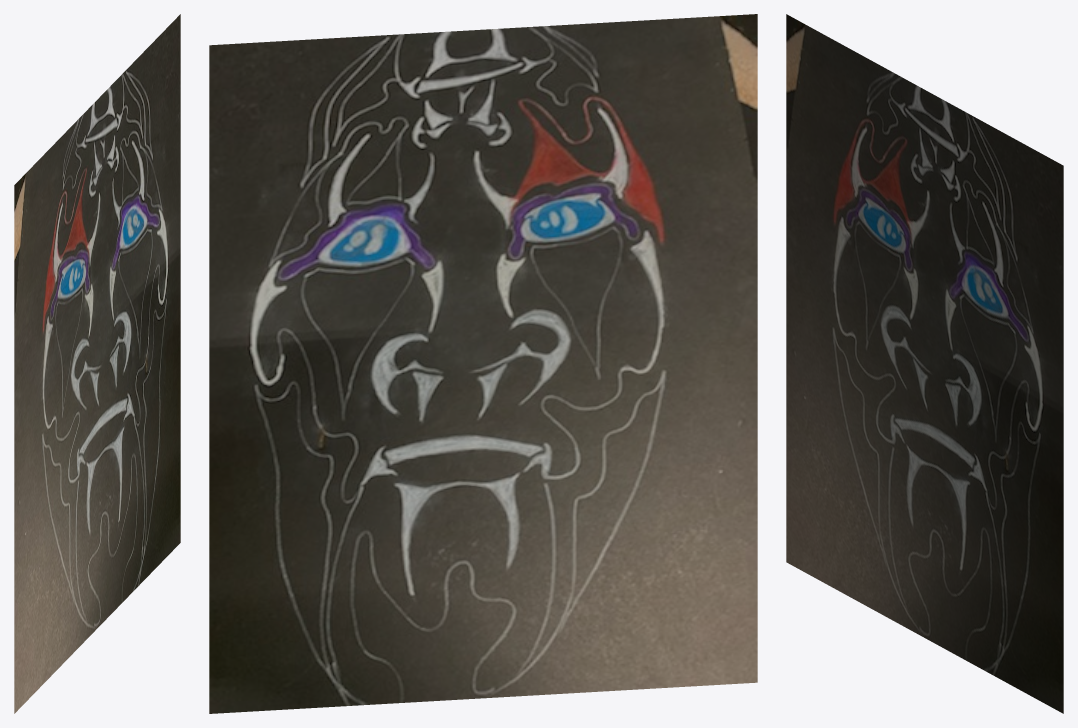
The model's file is jeffblueeyes1.glb.
The picture shows the model from 3 angles, left to right: view 1: azimuth 30°, elevation 25°; view 2: azimuth 150°, elevation 25°; view 3: azimuth 270°, elevation 25°; orthographic projection. The views are drawn at different scales.
Visible parts, largest first — view 1: blueeyes; view 2: blueeyes; view 3: blueeyes.
Part boxes in pixels (x1,y1,x2,y2): blueeyes: (14,14,180,713); blueeyes: (209,14,757,713); blueeyes: (786,14,1063,713).
Size of the model in its own units: 0.5935 by 1 by 0.4586.
Materials: 1 (1 with a texture image).
